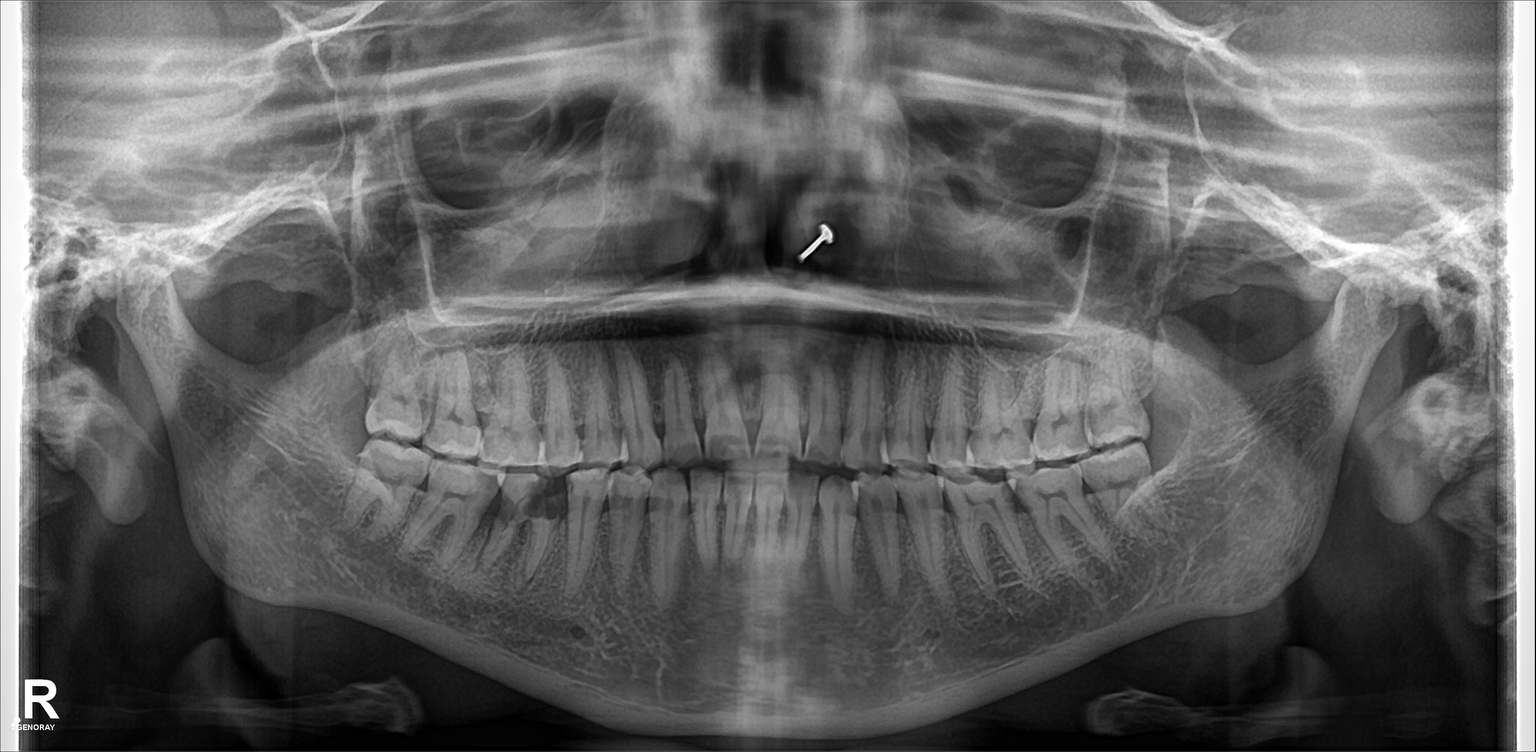Dental Caries: (527, 471, 571, 518)
